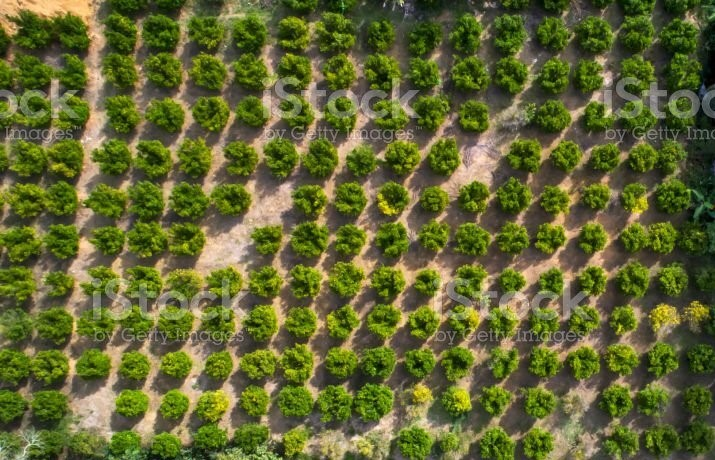TREE: (317, 8, 356, 51), (47, 137, 85, 179), (11, 11, 50, 51), (620, 57, 658, 98), (7, 136, 43, 179), (290, 220, 329, 259), (147, 97, 185, 135), (171, 182, 207, 222), (6, 181, 41, 222), (12, 90, 48, 129), (1, 224, 37, 263), (128, 182, 165, 219), (54, 14, 90, 52), (125, 263, 163, 299), (222, 141, 258, 179), (192, 97, 230, 133), (175, 140, 210, 179), (211, 185, 251, 219), (265, 138, 297, 180), (88, 184, 125, 220), (491, 17, 527, 54), (305, 136, 338, 176), (661, 19, 701, 52), (480, 426, 518, 460), (656, 179, 694, 213), (99, 56, 138, 89), (448, 14, 480, 54), (231, 15, 267, 50), (366, 55, 401, 91), (450, 56, 487, 90), (192, 54, 225, 92), (408, 17, 441, 55), (56, 92, 88, 131), (48, 223, 78, 264), (128, 221, 163, 256), (619, 16, 654, 51), (135, 142, 169, 178), (94, 139, 130, 173), (144, 16, 178, 52), (188, 16, 222, 52), (363, 345, 397, 381), (14, 56, 51, 89), (1, 267, 34, 304), (75, 308, 112, 341), (106, 95, 139, 132), (40, 308, 72, 346), (293, 184, 328, 218), (579, 19, 614, 53), (669, 58, 703, 93), (159, 306, 192, 342), (149, 55, 182, 91), (235, 53, 268, 89), (459, 99, 491, 136), (617, 259, 649, 296), (372, 224, 410, 255), (31, 390, 65, 424), (320, 57, 353, 92), (496, 58, 528, 94), (104, 14, 135, 51), (454, 266, 485, 303), (321, 385, 351, 423), (359, 385, 389, 423), (169, 225, 203, 258), (241, 349, 274, 383), (368, 305, 401, 339), (359, 424, 392, 458), (605, 343, 639, 376), (537, 19, 571, 52), (45, 183, 77, 218), (33, 351, 65, 386), (199, 308, 234, 340), (168, 269, 204, 300), (599, 385, 635, 416), (245, 304, 275, 341), (281, 57, 314, 90), (369, 267, 402, 300), (236, 421, 268, 455), (346, 145, 378, 179), (568, 348, 600, 382), (57, 55, 88, 90), (276, 16, 307, 51), (326, 92, 355, 129), (533, 100, 570, 129), (194, 425, 227, 457), (399, 426, 432, 458), (415, 220, 448, 252), (528, 345, 560, 378), (550, 139, 583, 171), (76, 347, 107, 381), (88, 265, 119, 299), (406, 58, 440, 89), (489, 345, 520, 379), (604, 426, 638, 457), (235, 384, 270, 414), (660, 263, 690, 298), (540, 57, 570, 92), (1, 307, 30, 343), (645, 426, 681, 455), (203, 270, 240, 298), (1, 348, 28, 386), (641, 386, 673, 418), (158, 350, 191, 381), (364, 19, 395, 52), (373, 98, 406, 129), (289, 266, 320, 299), (524, 427, 555, 460), (479, 385, 512, 416), (648, 223, 679, 256), (249, 265, 279, 299), (326, 305, 356, 339), (457, 222, 487, 256), (655, 139, 685, 173), (282, 94, 310, 130), (283, 345, 311, 381), (31, 433, 68, 460), (331, 263, 362, 295), (440, 348, 471, 380), (460, 181, 492, 212), (523, 388, 554, 420), (487, 305, 518, 337), (388, 141, 418, 174), (649, 344, 679, 377), (500, 178, 530, 211), (75, 431, 109, 460), (542, 182, 571, 216), (114, 391, 150, 418), (576, 58, 602, 95), (280, 387, 310, 419), (118, 352, 147, 385), (411, 308, 440, 341), (415, 95, 444, 128), (650, 306, 679, 339), (664, 102, 697, 131), (159, 389, 187, 423), (89, 227, 123, 255), (440, 387, 470, 418), (529, 306, 560, 336), (537, 224, 567, 255), (590, 142, 619, 174), (326, 347, 356, 377), (287, 309, 318, 338), (497, 226, 529, 254), (120, 304, 147, 337), (334, 226, 363, 256), (429, 147, 459, 176), (497, 267, 526, 297), (626, 102, 655, 132), (314, 433, 350, 457), (509, 141, 541, 168), (336, 183, 361, 217), (240, 97, 269, 126), (629, 143, 658, 172), (535, 266, 565, 294), (687, 424, 715, 454), (579, 266, 607, 296), (379, 187, 410, 214), (686, 384, 712, 416), (689, 344, 715, 376), (608, 305, 636, 334), (570, 306, 599, 334), (581, 224, 608, 254), (684, 226, 709, 258), (113, 430, 142, 457), (417, 184, 447, 210), (200, 391, 224, 423), (622, 184, 650, 211), (253, 225, 279, 254), (684, 303, 710, 332), (47, 271, 73, 299), (406, 350, 434, 376), (152, 433, 181, 458), (207, 353, 232, 382), (448, 307, 479, 330), (569, 429, 594, 457), (620, 222, 645, 250), (583, 185, 612, 209), (586, 105, 616, 128), (1, 394, 24, 423), (413, 270, 439, 295), (696, 266, 715, 300), (406, 382, 432, 404), (285, 430, 305, 458), (437, 431, 459, 454), (563, 390, 582, 414)
